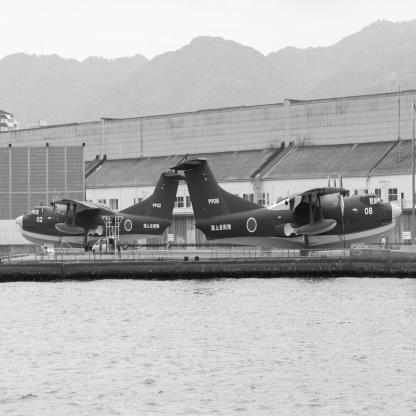US2: (169, 156, 403, 258), (17, 171, 187, 254)
